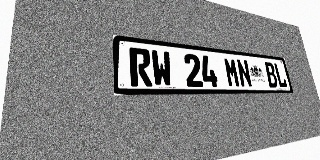2: (183, 53, 203, 87)
4: (199, 55, 218, 87)
B: (264, 62, 279, 87)
L: (273, 63, 288, 88)
M: (223, 57, 241, 87)
N: (236, 59, 253, 87)
R: (129, 47, 153, 86)
W: (151, 49, 173, 87)
